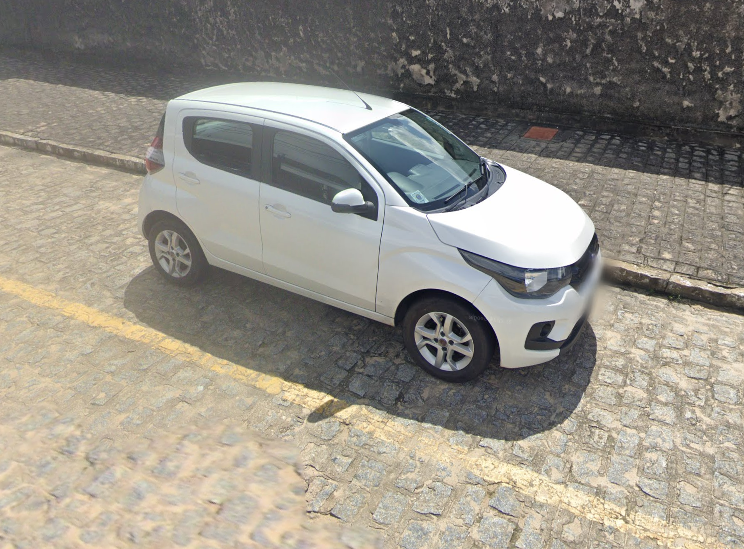car: (130, 65, 606, 385)
